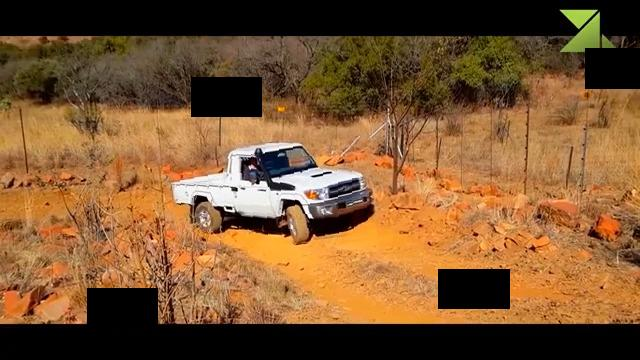MIL_HMMWV: (171, 139, 376, 249)
